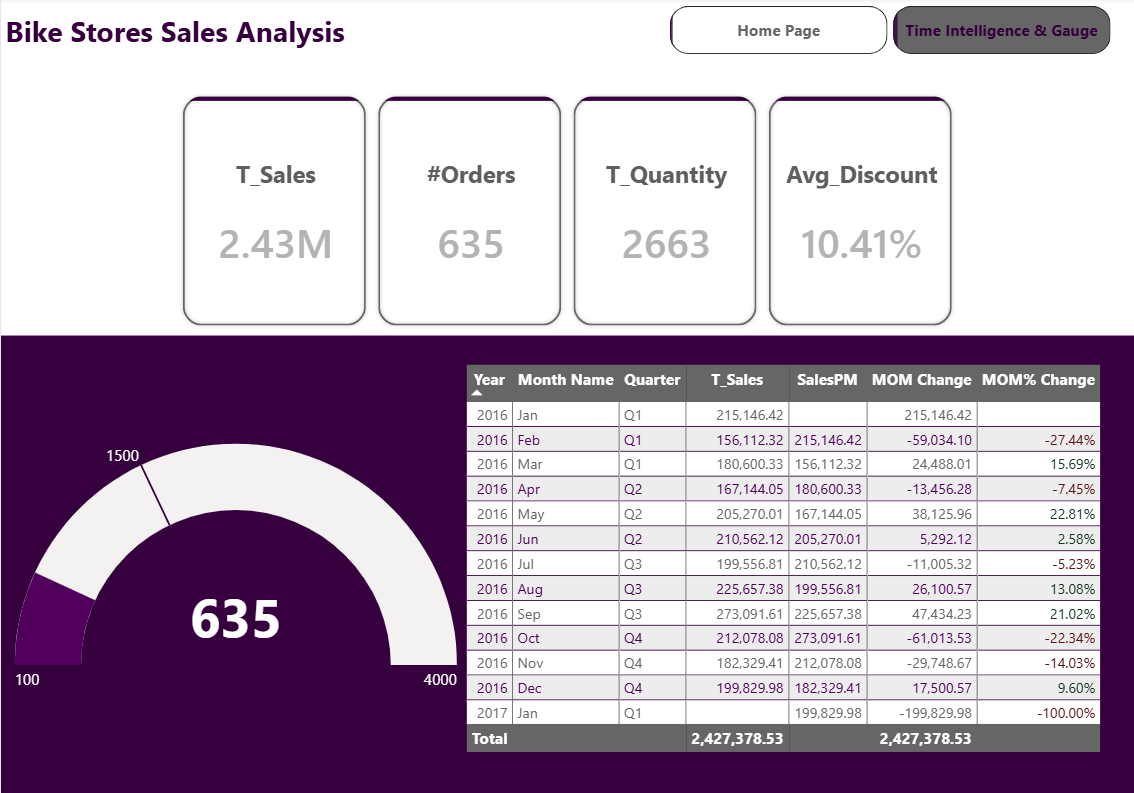

Layout of this report page (visuals, bound fields, positions):
{"tool":"powerbi","page":{"name":"Time Intelligence & Gauge","canvas":[1280,900],"ordinal":1},"visuals":[{"type":"shape","box":[0,0,1280.3,381.5],"z":0},{"type":"tableEx","fields":{"Values":["Date.Year","Date.Month Name","Date.Quarter","_Measure.T_Sales","_Measure.SalesPM","_Measure.MOM Change","_Measure.MOM% Change"]},"box":[518.8,408.7,761.6,470.5],"z":1000},{"type":"textbox","box":[0,10.9,394.5,54.3],"z":2000},{"type":"cardVisual","fields":{"Data":["_Measure.T_Sales","_Measure.#Orders","_Measure.T_Quantity","_Measure.Avg_Discount"]},"box":[193,99.5,891.3,282],"z":3000},{"type":"pageNavigator","box":[754,10.6,497.7,54.3],"z":4000},{"type":"gauge","fields":{"Y":["_Measure.#Orders"]},"box":[10.6,408.7,508.2,470.5],"z":5000}]}

Visuals, with their boxes in screenshot pixels (x1, y1, x2, y2), scaled from the page's 1280x900 canvas onto the 1134x793 screenshot:
shape: Rect(0, 0, 1133, 336)
tableEx - Date.Year x Date.Month Name: Rect(460, 360, 1133, 775)
textbox: Rect(0, 10, 350, 57)
cardVisual - _Measure.T_Sales x _Measure.#Orders: Rect(171, 88, 961, 336)
pageNavigator: Rect(668, 9, 1109, 57)
gauge - _Measure.#Orders: Rect(9, 360, 460, 775)
